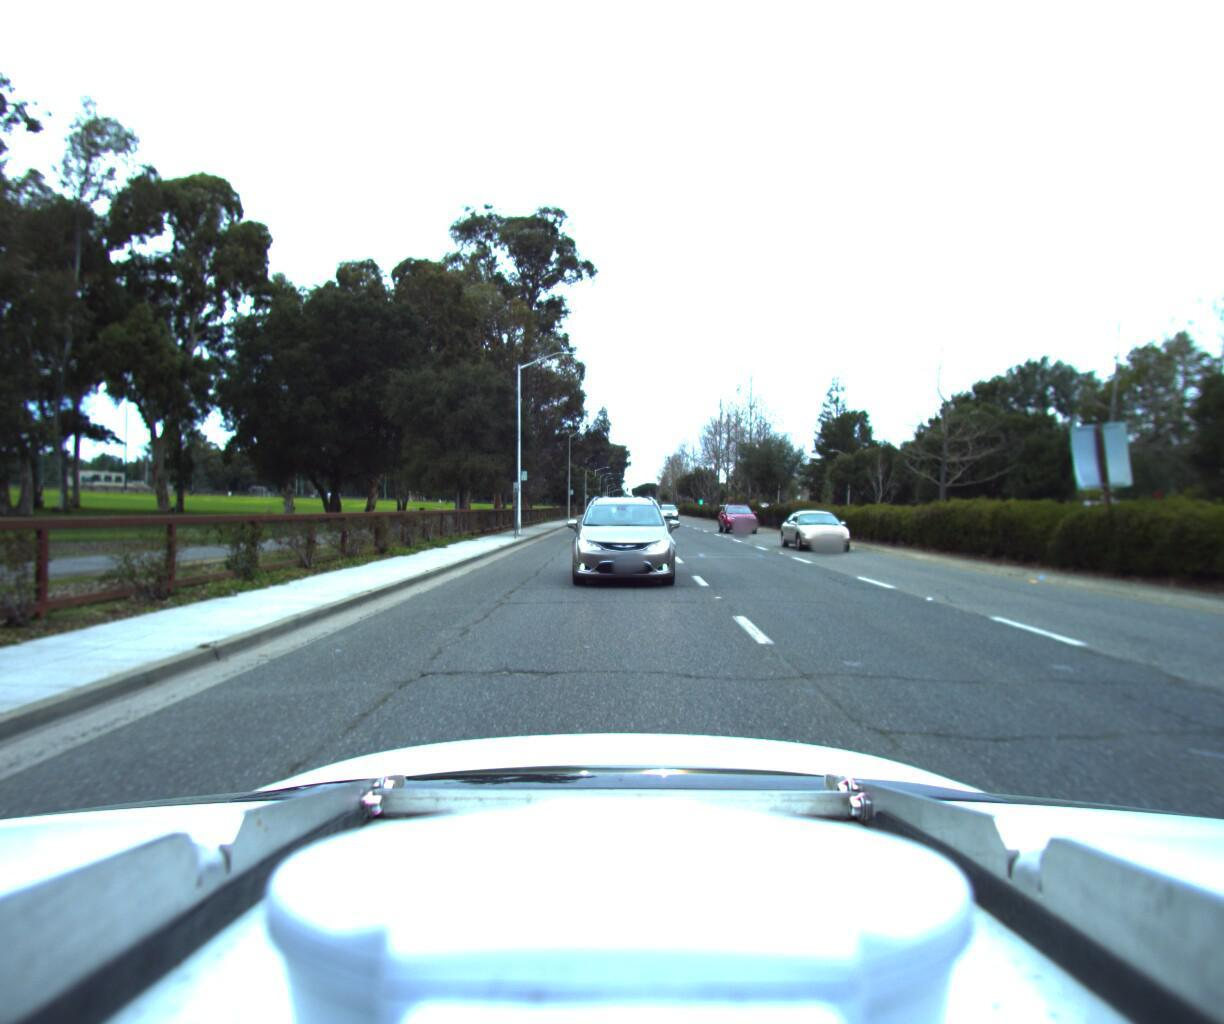car: (563, 487, 673, 587), (1057, 488, 1198, 558), (783, 504, 864, 550), (717, 496, 762, 527), (658, 498, 679, 514)
